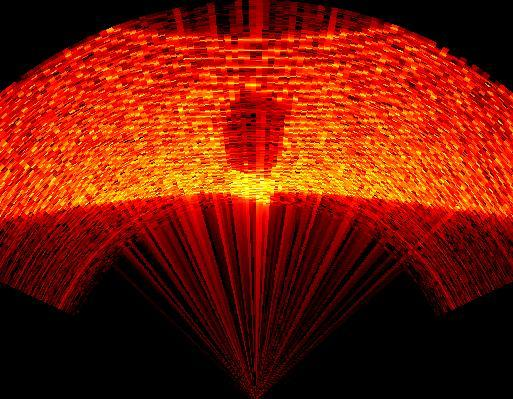box_crate: (222, 84, 292, 189)
